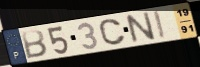3: (77, 21, 100, 51)
5: (46, 24, 71, 55)
B: (20, 29, 49, 60)
C: (98, 18, 127, 47)
I: (151, 9, 168, 41)
N: (123, 10, 158, 46)
